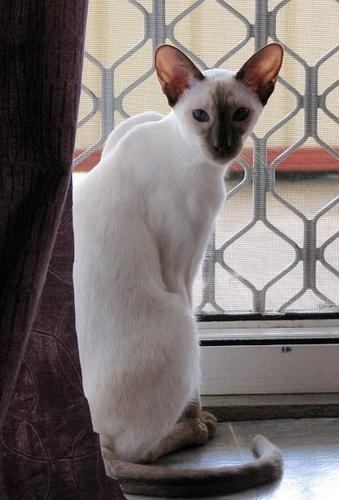cat: (74, 37, 300, 490)
